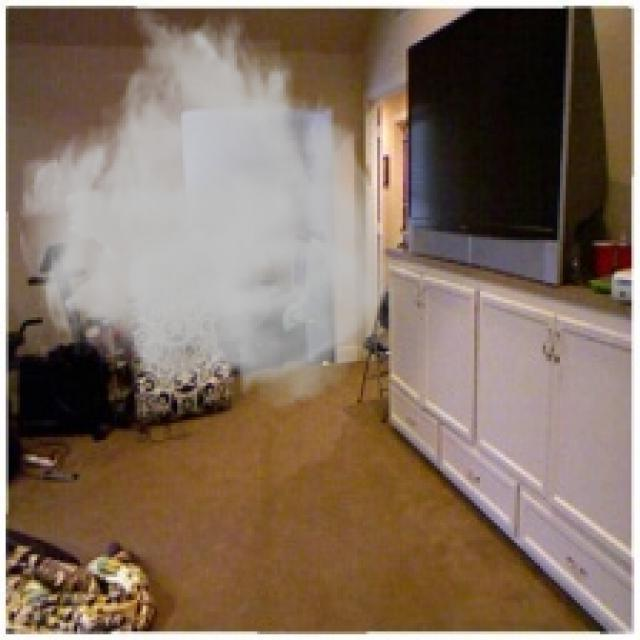Smoke: (14, 0, 398, 412)
